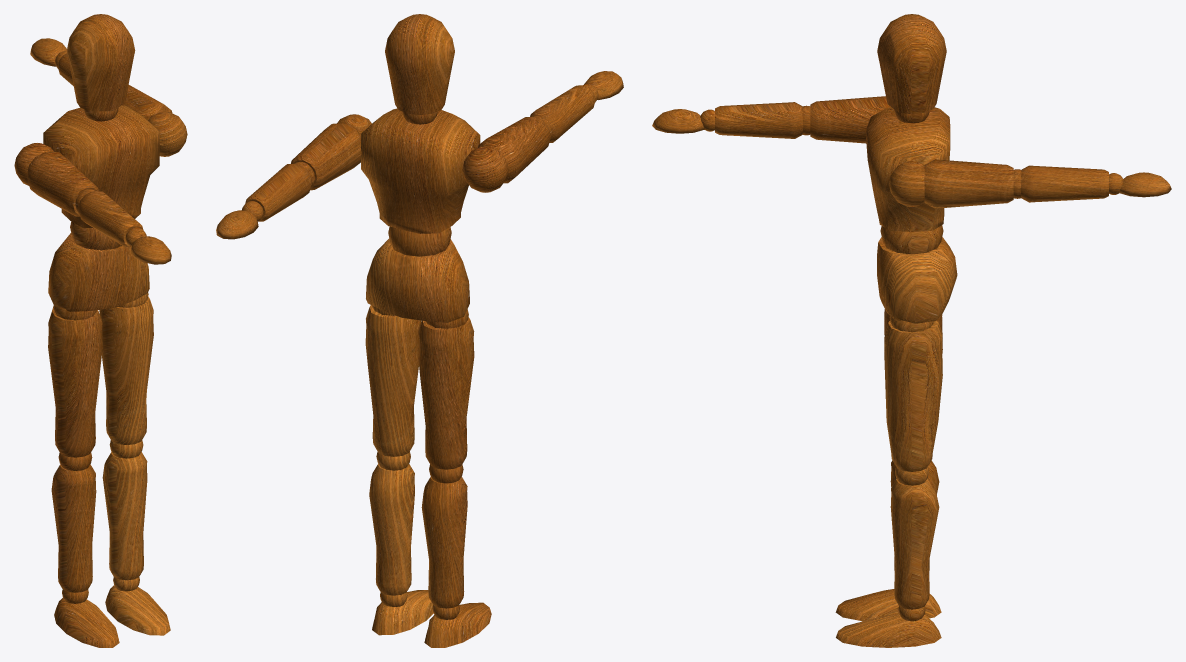
File: dummy_obj_test.obj
The picture shows the model from 3 angles, left to right: view 1: azimuth 30°, elevation 25°; view 2: azimuth 150°, elevation 25°; view 3: azimuth 270°, elevation 25°; orthographic projection. The views are drawn at different scales.
Visible parts, largest first — view 1: dummy_hips3_dummy_belly_dummy_torso, dummy_hips3_dummy_rpelvis_dummy_rupleg, dummy_hips3_dummy_lpelvis_dummy_lupleg, dummy_hips3, dummy_hips3_dummy_belly_dummy_torso_dummy_neck_dummy_headq, dummy_hips3_dummy_rpelvis_dummy_rupleg_dummy_rknee_dummy_rleg, dummy_hips3_dummy_lpelvis_dummy_lupleg_dummy_lknee_dummy_lleg, dummy_hips3_dummy_belly_dummy_torso_dummy_rshoulder_dummy_rarm, dummy_hips3_dummy_lpelvis_dummy_lupleg_dummy_lknee_dummy_ll.000, dummy_hips3_dummy_rpelvis_dummy_rupleg_dummy_rknee_dummy_rleg_d, dummy_hips3_dummy_belly_dummy_torso_dummy_rshoulder_dummy_r.001, dummy_hips3_dummy_belly_dummy_torso_dummy_lshoulder (+12 smaller); view 2: dummy_hips3_dummy_belly_dummy_torso, dummy_hips3_dummy_rpelvis_dummy_rupleg, dummy_hips3_dummy_lpelvis_dummy_lupleg, dummy_hips3, dummy_hips3_dummy_belly_dummy_torso_dummy_neck_dummy_headq, dummy_hips3_dummy_rpelvis_dummy_rupleg_dummy_rknee_dummy_rleg, dummy_hips3_dummy_lpelvis_dummy_lupleg_dummy_lknee_dummy_lleg, dummy_hips3_dummy_belly_dummy_torso_dummy_lshoulder_dummy_larm, dummy_hips3_dummy_belly_dummy_torso_dummy_rshoulder_dummy_rarm, dummy_hips3_dummy_belly_dummy_torso_dummy_lshoulder_dummy_l.000, dummy_hips3_dummy_rpelvis_dummy_rupleg_dummy_rknee_dummy_rleg_d, dummy_hips3_dummy_belly_dummy_torso_dummy_rshoulder_dummy_r.001 (+5 smaller); view 3: dummy_hips3_dummy_lpelvis_dummy_lupleg, dummy_hips3_dummy_belly_dummy_torso, dummy_hips3_dummy_belly_dummy_torso_dummy_neck_dummy_headq, dummy_hips3, dummy_hips3_dummy_lpelvis_dummy_lupleg_dummy_lknee_dummy_lleg, dummy_hips3_dummy_belly_dummy_torso_dummy_lshoulder_dummy_larm, dummy_hips3_dummy_belly_dummy_torso_dummy_lshoulder_dummy_l.000, dummy_hips3_dummy_belly_dummy_torso_dummy_rshoulder_dummy_r.001, dummy_hips3_dummy_belly_dummy_torso_dummy_rshoulder_dummy_rarm, dummy_hips3_dummy_lpelvis_dummy_lupleg_dummy_lknee_dummy_ll.000, dummy_hips3_dummy_rpelvis_dummy_rupleg_dummy_rknee_dummy_rleg_d, dummy_hips3_dummy_belly_dummy_torso_dummy_lshoulder (+3 smaller).
Part boxes in pixels (box(x1,y1,x2,y2)): dummy_hips3_dummy_belly_dummy_torso: box(43, 105, 159, 227); dummy_hips3_dummy_rpelvis_dummy_rupleg: box(48, 307, 102, 457); dummy_hips3_dummy_lpelvis_dummy_lupleg: box(99, 296, 153, 444); dummy_hips3: box(48, 233, 149, 311); dummy_hips3_dummy_belly_dummy_torso_dummy_neck_dummy_headq: box(66, 14, 135, 111); dummy_hips3_dummy_rpelvis_dummy_rupleg_dummy_rknee_dummy_rleg: box(51, 464, 96, 592); dummy_hips3_dummy_lpelvis_dummy_lupleg_dummy_lknee_dummy_lleg: box(102, 452, 147, 580); dummy_hips3_dummy_belly_dummy_torso_dummy_rshoulder_dummy_rarm: box(27, 151, 98, 216); dummy_hips3_dummy_lpelvis_dummy_lupleg_dummy_lknee_dummy_ll.000: box(105, 585, 170, 635); dummy_hips3_dummy_rpelvis_dummy_rupleg_dummy_rknee_dummy_rleg_d: box(54, 598, 119, 647); dummy_hips3_dummy_belly_dummy_torso_dummy_rshoulder_dummy_r.001: box(78, 191, 143, 247); dummy_hips3_dummy_belly_dummy_torso_dummy_lshoulder: box(148, 111, 187, 156); dummy_hips3_dummy_belly_dummy_torso: box(361, 108, 480, 233); dummy_hips3_dummy_rpelvis_dummy_rupleg: box(418, 317, 474, 469); dummy_hips3_dummy_lpelvis_dummy_lupleg: box(365, 305, 421, 456); dummy_hips3: box(366, 238, 469, 322); dummy_hips3_dummy_belly_dummy_torso_dummy_neck_dummy_headq: box(385, 14, 454, 114); dummy_hips3_dummy_rpelvis_dummy_rupleg_dummy_rknee_dummy_rleg: box(421, 476, 467, 608); dummy_hips3_dummy_lpelvis_dummy_lupleg_dummy_lknee_dummy_lleg: box(369, 464, 414, 595); dummy_hips3_dummy_belly_dummy_torso_dummy_lshoulder_dummy_larm: box(291, 123, 361, 190); dummy_hips3_dummy_belly_dummy_torso_dummy_rshoulder_dummy_rarm: box(478, 116, 550, 183); dummy_hips3_dummy_belly_dummy_torso_dummy_lshoulder_dummy_l.000: box(245, 164, 311, 221); dummy_hips3_dummy_rpelvis_dummy_rupleg_dummy_rknee_dummy_rleg_d: box(424, 602, 491, 647); dummy_hips3_dummy_belly_dummy_torso_dummy_rshoulder_dummy_r.001: box(530, 85, 595, 142); dummy_hips3_dummy_lpelvis_dummy_lupleg: box(884, 320, 942, 471); dummy_hips3_dummy_belly_dummy_torso: box(866, 107, 950, 231); dummy_hips3_dummy_belly_dummy_torso_dummy_neck_dummy_headq: box(877, 14, 946, 114); dummy_hips3: box(877, 237, 957, 323); dummy_hips3_dummy_lpelvis_dummy_lupleg_dummy_lknee_dummy_lleg: box(890, 479, 939, 609); dummy_hips3_dummy_belly_dummy_torso_dummy_lshoulder_dummy_larm: box(924, 159, 1013, 208); dummy_hips3_dummy_belly_dummy_torso_dummy_lshoulder_dummy_l.000: box(1020, 165, 1108, 202); dummy_hips3_dummy_belly_dummy_torso_dummy_rshoulder_dummy_r.001: box(715, 102, 803, 138); dummy_hips3_dummy_belly_dummy_torso_dummy_rshoulder_dummy_rarm: box(810, 96, 890, 143); dummy_hips3_dummy_lpelvis_dummy_lupleg_dummy_lknee_dummy_ll.000: box(836, 613, 941, 647); dummy_hips3_dummy_rpelvis_dummy_rupleg_dummy_rknee_dummy_rleg_d: box(835, 589, 941, 621); dummy_hips3_dummy_belly_dummy_torso_dummy_lshoulder: box(889, 161, 924, 206).
Bounding box in the file's own units: 52.69 × 177 × 137.
1 material, 1 textured.
